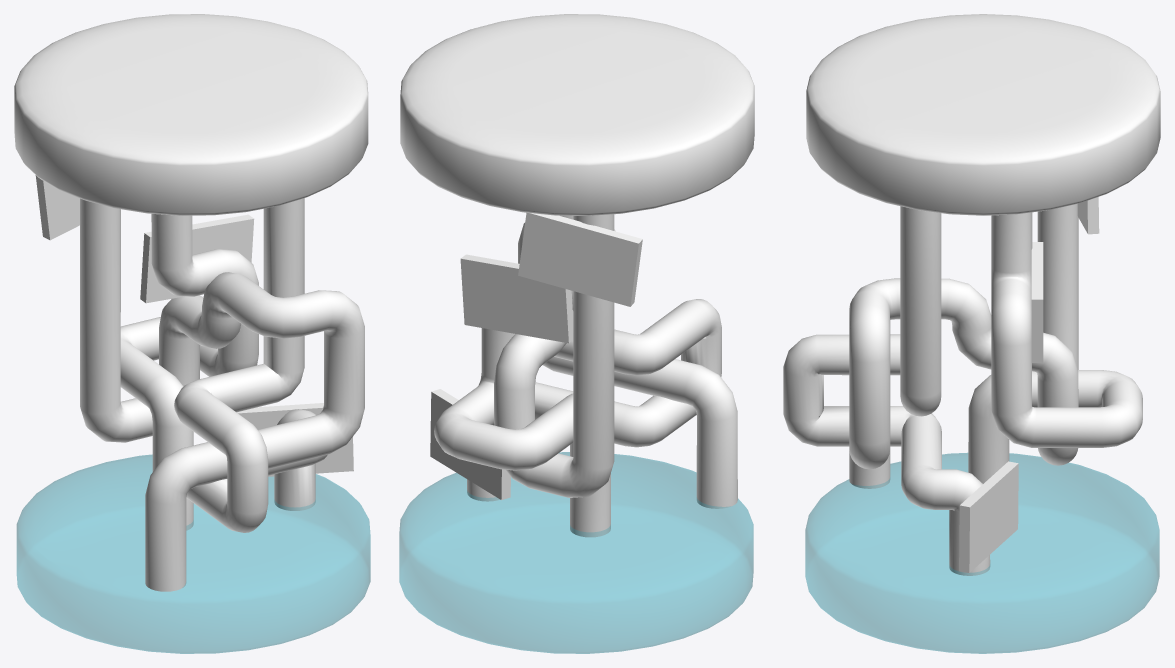
Rendered from pipes.glb.
The picture shows the model from 3 angles, left to right: view 1: azimuth 30°, elevation 25°; view 2: azimuth 150°, elevation 25°; view 3: azimuth 270°, elevation 25°; orthographic projection.
Visible parts, largest first — view 1: Cylinder.001, Cylinder.002, Plane, Plane.001, Plane.002, Cube.002, Cube.001, Cube; view 2: Cylinder.001, Cylinder.002, Plane, Plane.002, Plane.001, Cube, Cube.002, Cube.001; view 3: Cylinder.001, Cylinder.002, Plane.001, Plane, Plane.002, Cube.001, Cube.002, Cube.
Part boxes in pixels (bbox=[...]): Cylinder.001: bbox=[14, 14, 368, 215]; Cylinder.002: bbox=[17, 455, 370, 653]; Plane: bbox=[80, 198, 364, 591]; Plane.001: bbox=[174, 198, 327, 532]; Plane.002: bbox=[120, 214, 258, 530]; Cube.002: bbox=[140, 214, 254, 303]; Cube.001: bbox=[237, 403, 353, 476]; Cube: bbox=[35, 175, 79, 240]; Cylinder.001: bbox=[400, 14, 754, 215]; Cylinder.002: bbox=[399, 452, 753, 653]; Plane: bbox=[494, 214, 737, 508]; Plane.002: bbox=[434, 215, 610, 537]; Plane.001: bbox=[467, 299, 721, 501]; Cube: bbox=[518, 212, 642, 306]; Cube.002: bbox=[460, 254, 573, 343]; Cube.001: bbox=[430, 389, 510, 500]; Cylinder.001: bbox=[806, 14, 1160, 215]; Cylinder.002: bbox=[805, 453, 1159, 653]; Plane.001: bbox=[783, 206, 990, 575]; Plane: bbox=[849, 203, 1078, 488]; Plane.002: bbox=[968, 212, 1142, 483]; Cube.001: bbox=[959, 461, 1018, 572]; Cube.002: bbox=[1031, 242, 1043, 362]; Cube: bbox=[1077, 197, 1099, 234].
Bounding box in the file's own units: 45.08 × 70.63 × 47.75.
